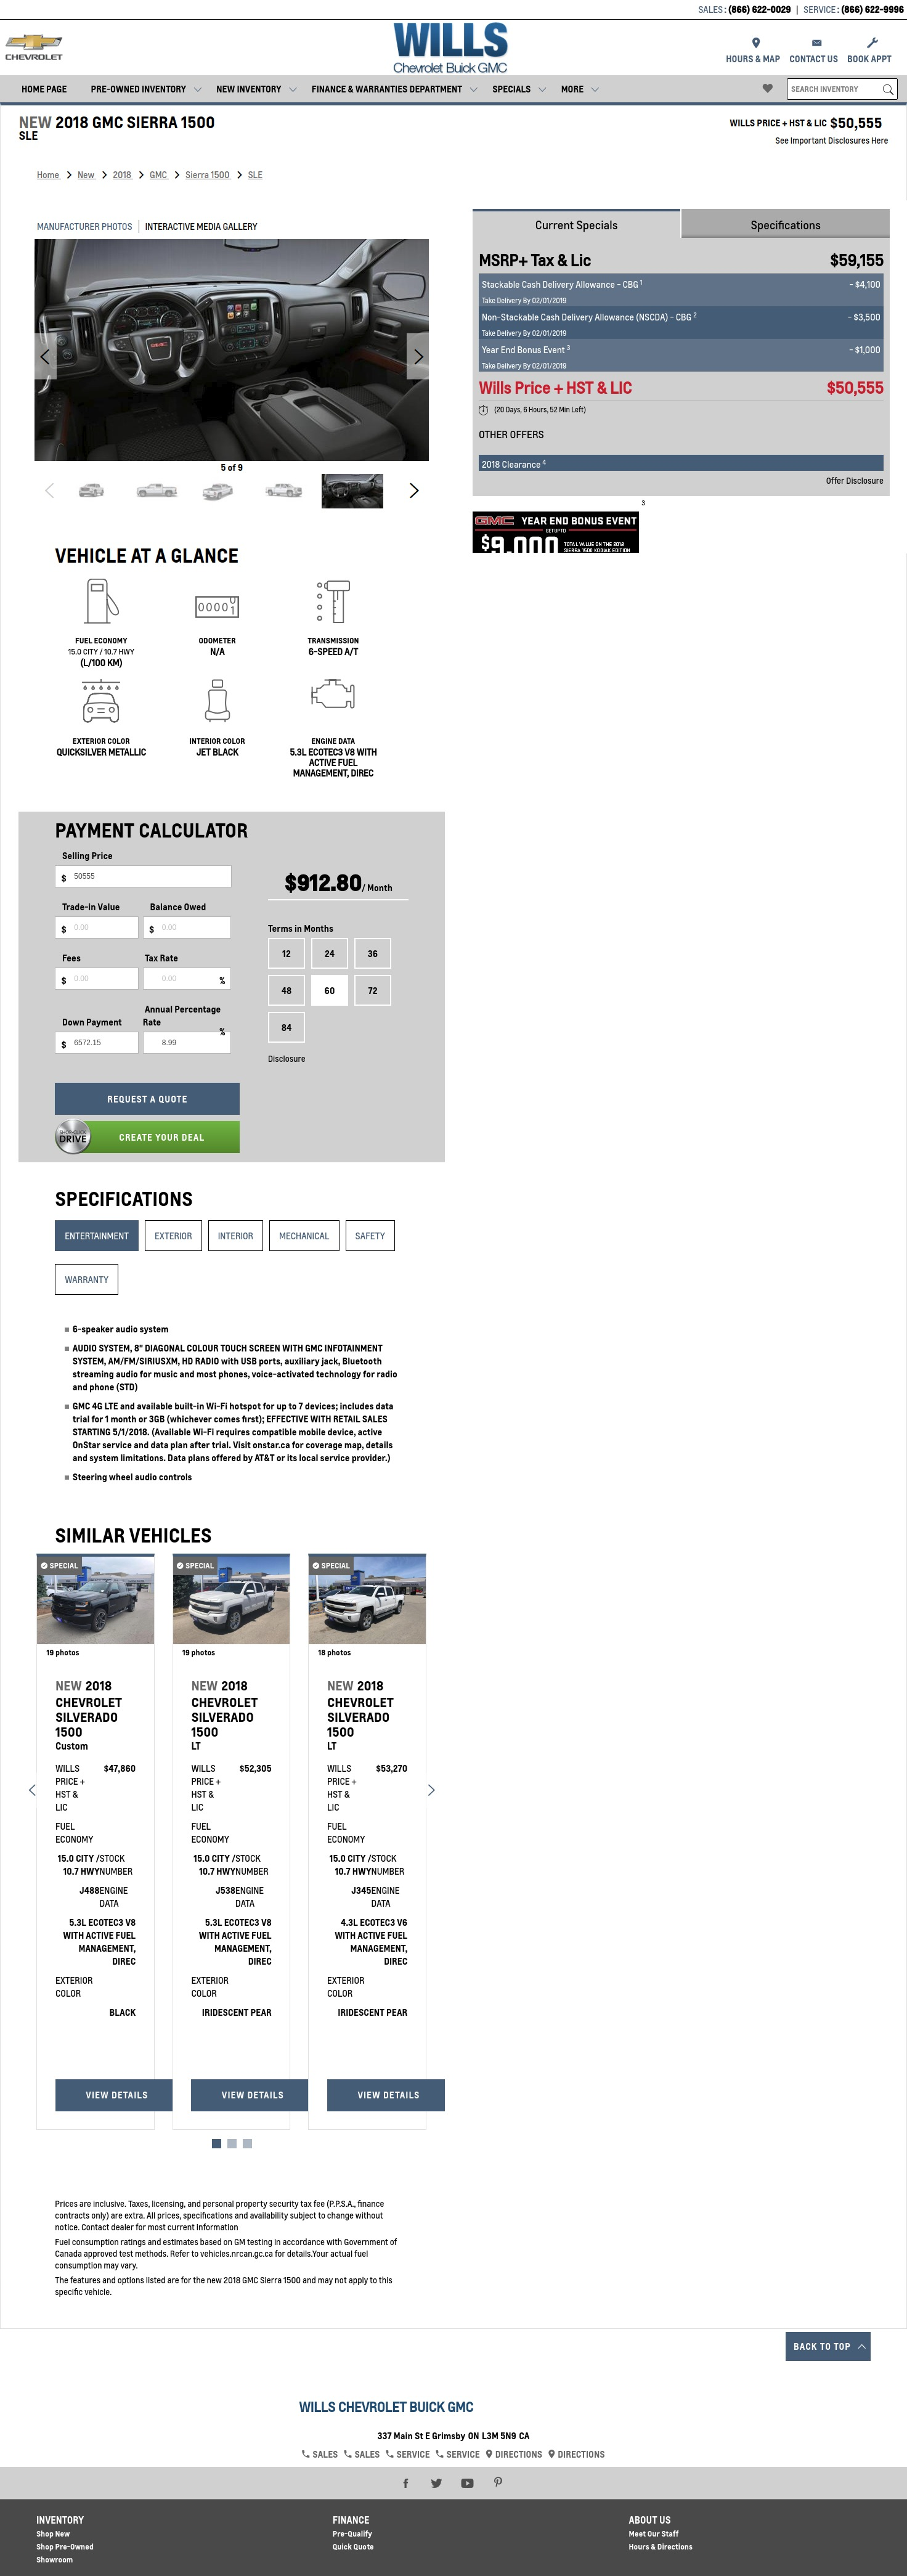car: (409, 483, 421, 499)
